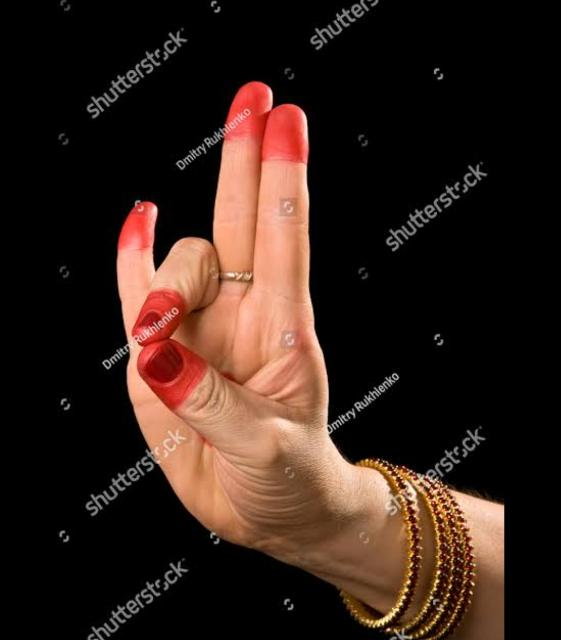mayur: (115, 83, 477, 640), (90, 61, 384, 568)
